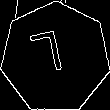L_S: (35, 30, 75, 85)
